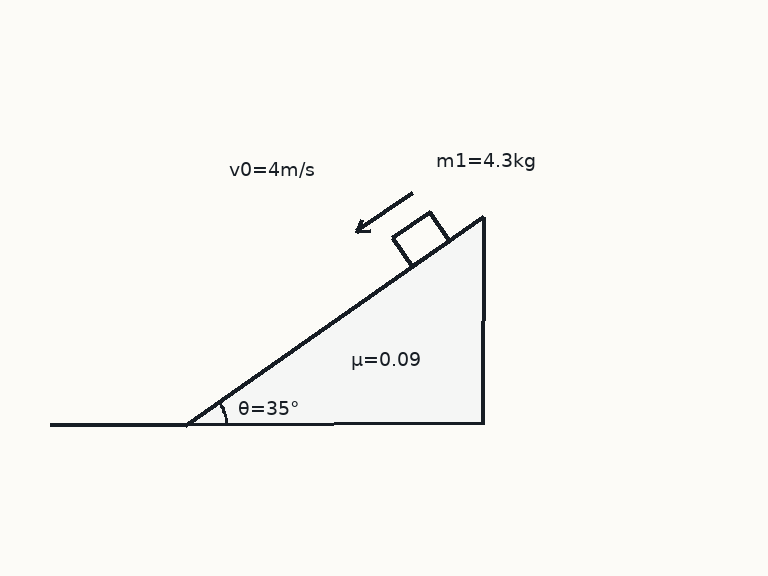block: (390, 210, 451, 268)
ramp: (184, 214, 485, 426)
